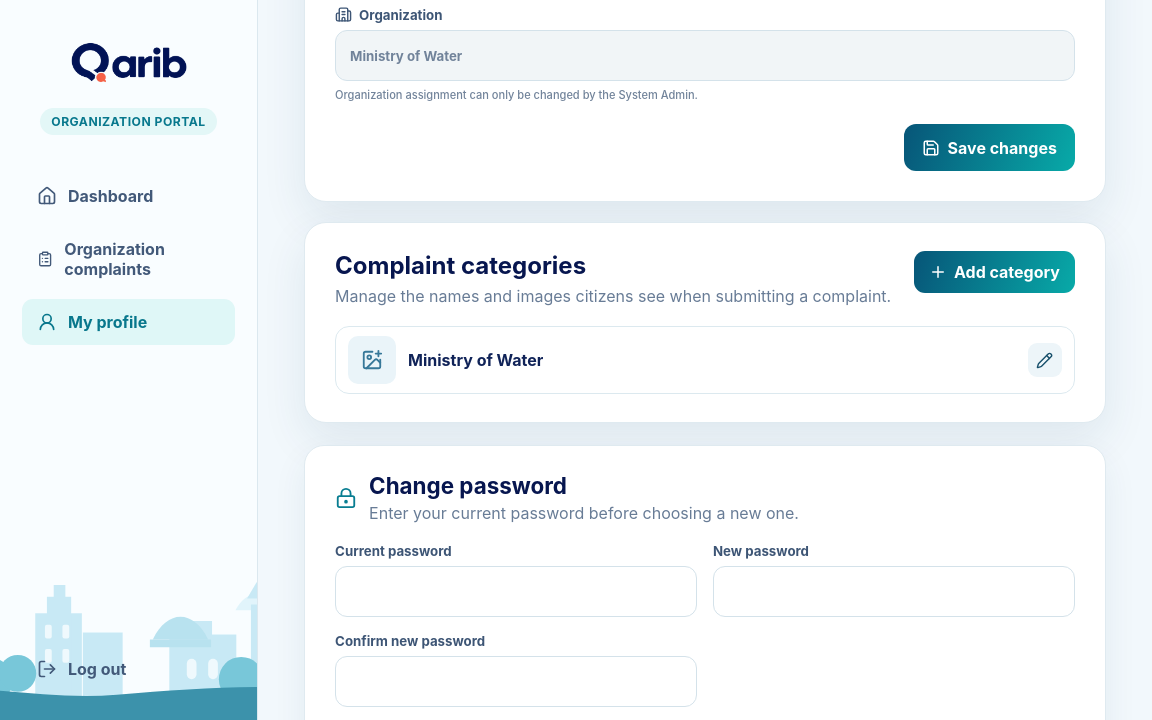
authentication pages › lets a representative edit the citizen-facing organization name
(page scrolled)
Click the button named "Edit Ministry of Water" at (1045, 360), box [1028,343,1062,377]
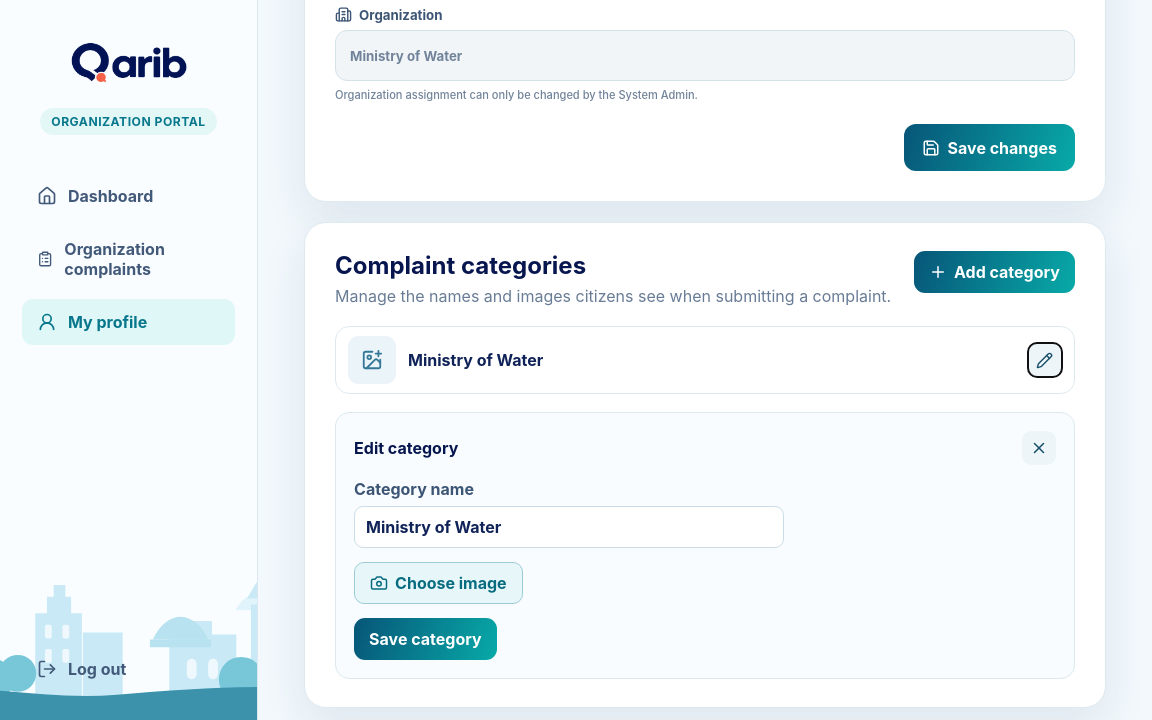
Now the field labelled "Category name" holds "Ministry of Water"
Replace the text in the field labelled "Category name" with "Water Services" at (569, 527), box [354,506,784,548]
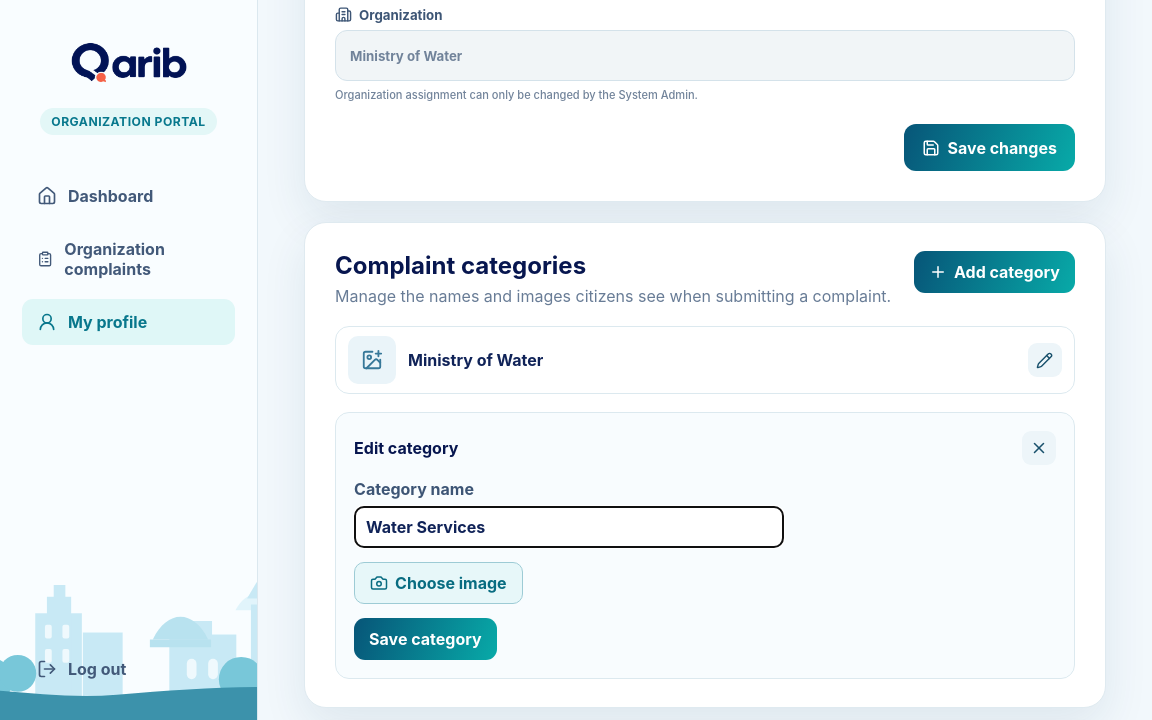
Click the button "Save category" at (425, 639), box [354,618,497,660]
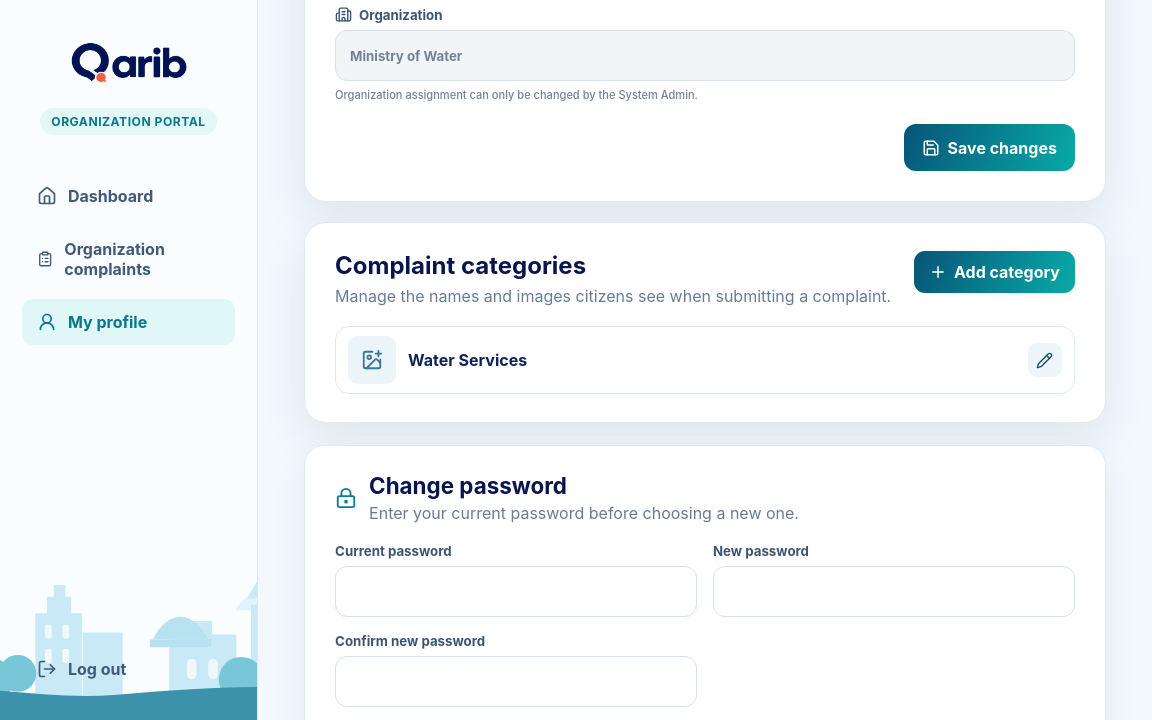
Now the text "Water Services" is shown, box [408,350,527,370]
